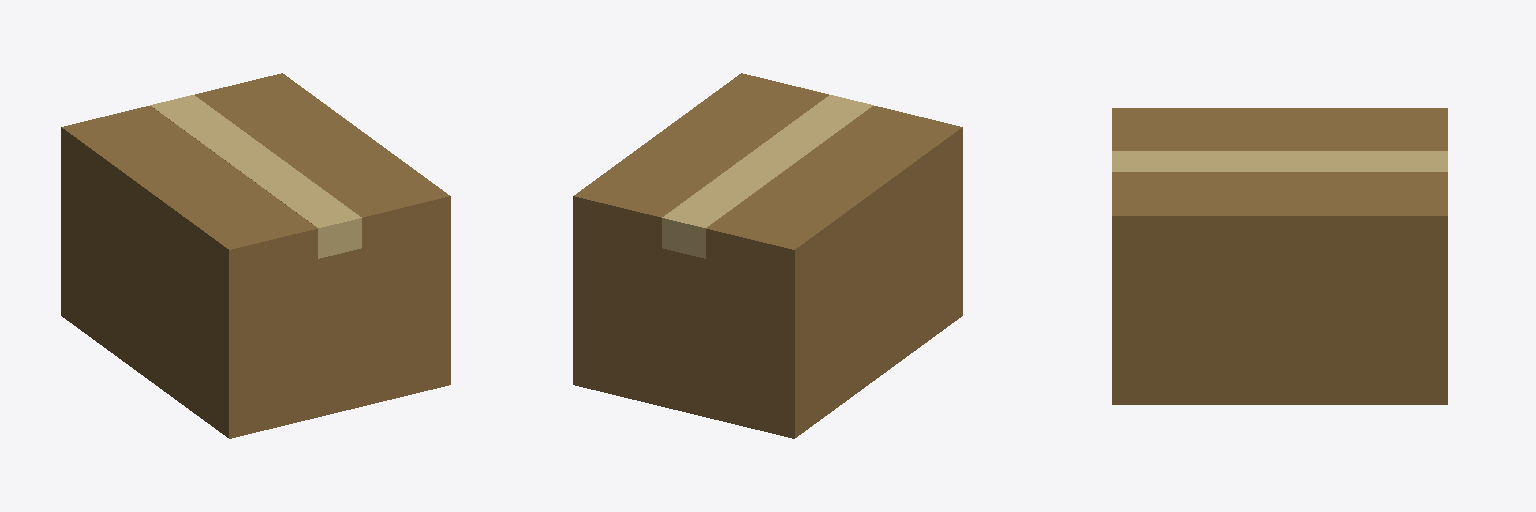
The model's file is cardboard-box.obj.
3 views of the same model, side by side, from view 1: azimuth 30°, elevation 25°; view 2: azimuth 150°, elevation 25°; view 3: azimuth 270°, elevation 25° (orthographic).
Parts seen in each view (by area): view 1: Box_立方体, Tape_立方体.001; view 2: Box_立方体, Tape_立方体.001; view 3: Box_立方体, Tape_立方体.001.
Part boxes in pixels (bbox=[...]): Box_立方体: bbox=[61, 73, 450, 438]; Tape_立方体.001: bbox=[150, 95, 361, 258]; Box_立方体: bbox=[573, 73, 962, 438]; Tape_立方体.001: bbox=[662, 95, 873, 258]; Box_立方体: bbox=[1112, 108, 1447, 404]; Tape_立方体.001: bbox=[1112, 151, 1447, 171].
Bounding box in the file's own units: 0.38 × 0.3102 × 0.5004.